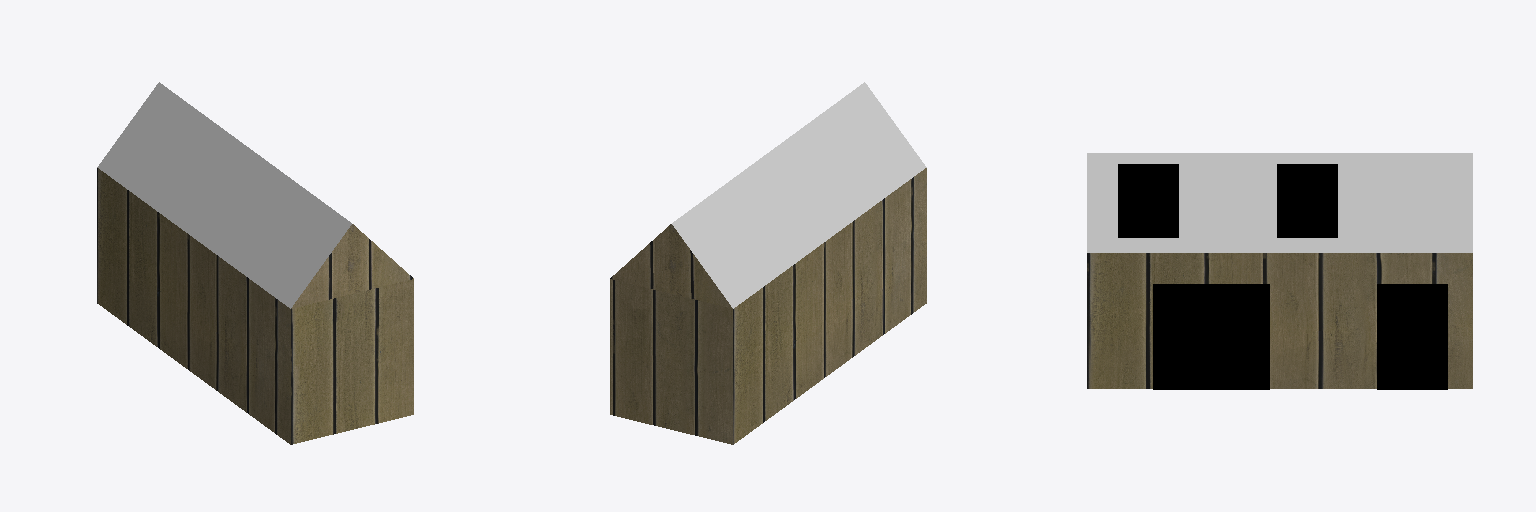
The picture shows the model from 3 angles: view 1: azimuth 30°, elevation 25°; view 2: azimuth 150°, elevation 25°; view 3: azimuth 270°, elevation 25°; orthographic projection.
Visible parts, largest first — view 1: House, Roof; view 2: House, Roof; view 3: House, Roof, Window.004, Window.003, Window.002, Window.001.
Boxes of the visible parts, <box> form: House: <box>97,168,413,444</box>; Roof: <box>97,82,351,308</box>; House: <box>610,168,926,444</box>; Roof: <box>672,82,926,308</box>; House: <box>1087,253,1472,388</box>; Roof: <box>1087,153,1472,252</box>; Window.004: <box>1153,284,1269,389</box>; Window.003: <box>1377,284,1447,389</box>; Window.002: <box>1118,164,1178,237</box>; Window.001: <box>1277,164,1337,237</box>.
Size of the model in its own units: 2.46 by 3.91 by 6.64.
4 materials, 1 textured.